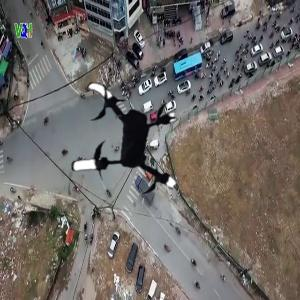drone: (54, 74, 191, 211)
